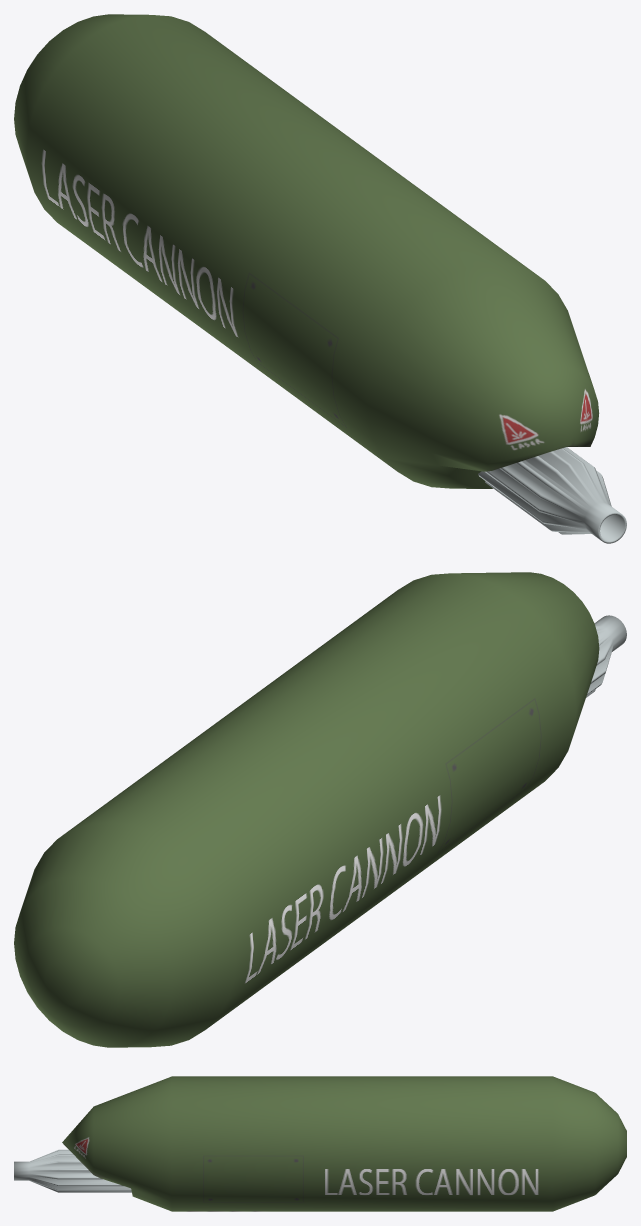
File: Cannon Pod.fbx
3 views of the same model, one above another, from view 1: azimuth 30°, elevation 25°; view 2: azimuth 150°, elevation 25°; view 3: azimuth 270°, elevation 25° (orthographic). The views are drawn at different scales.
Parts seen in each view (by area): view 1: Gun secondary 2 pod.001; view 2: Gun secondary 2 pod.001; view 3: Gun secondary 2 pod.001.
Part boxes in pixels (x1=…): Gun secondary 2 pod.001: x1=14, y1=14, x2=626, y2=543; Gun secondary 2 pod.001: x1=14, y1=572, x2=626, y2=1047; Gun secondary 2 pod.001: x1=14, y1=1076, x2=626, y2=1211.
Size of the model in its own units: 100 by 100 by 453.
